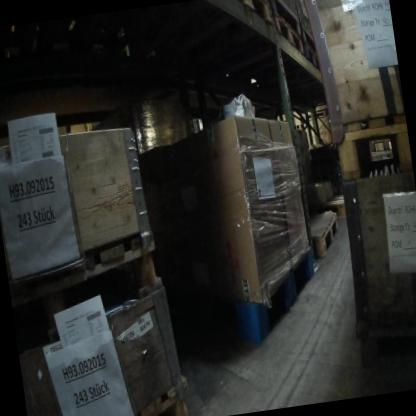pallet: (6, 232, 175, 348), (186, 246, 326, 370), (321, 112, 412, 180), (304, 205, 347, 273), (128, 373, 195, 416), (227, 0, 273, 46), (275, 9, 309, 67), (304, 40, 324, 76)
stillage: (292, 0, 319, 44), (267, 0, 301, 25)
